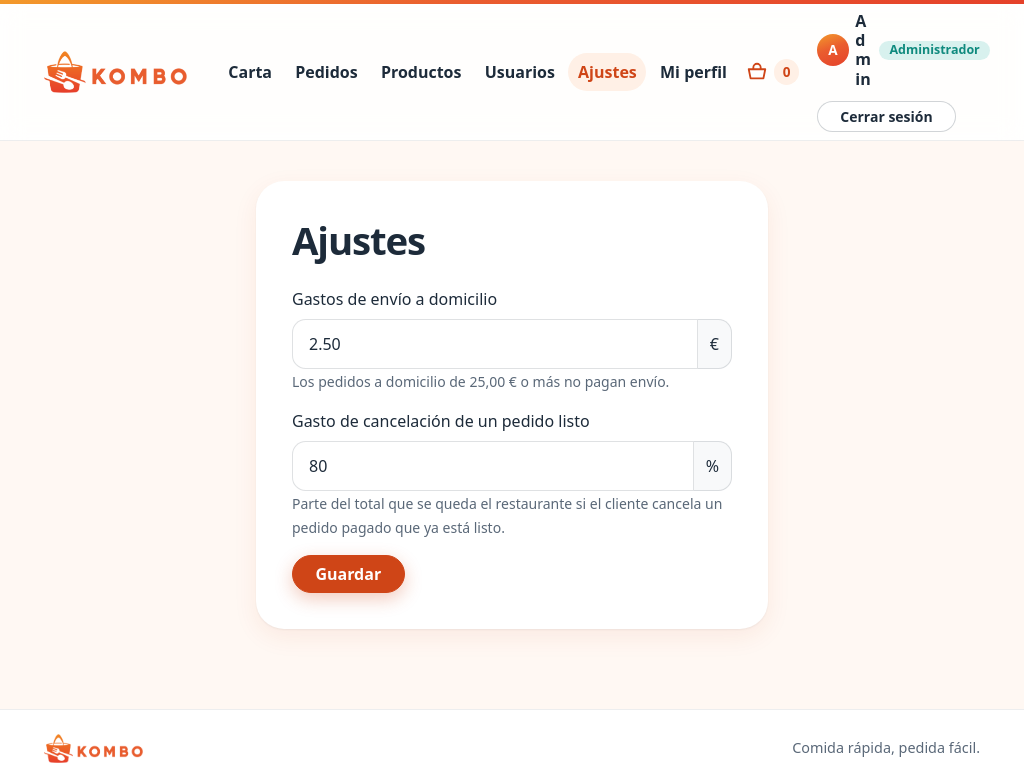
AdminSettingsPage › shows an error when the cost cannot be saved or loaded
Click the button "Guardar" at x=348, y=574, box 292,555 -> 404,593
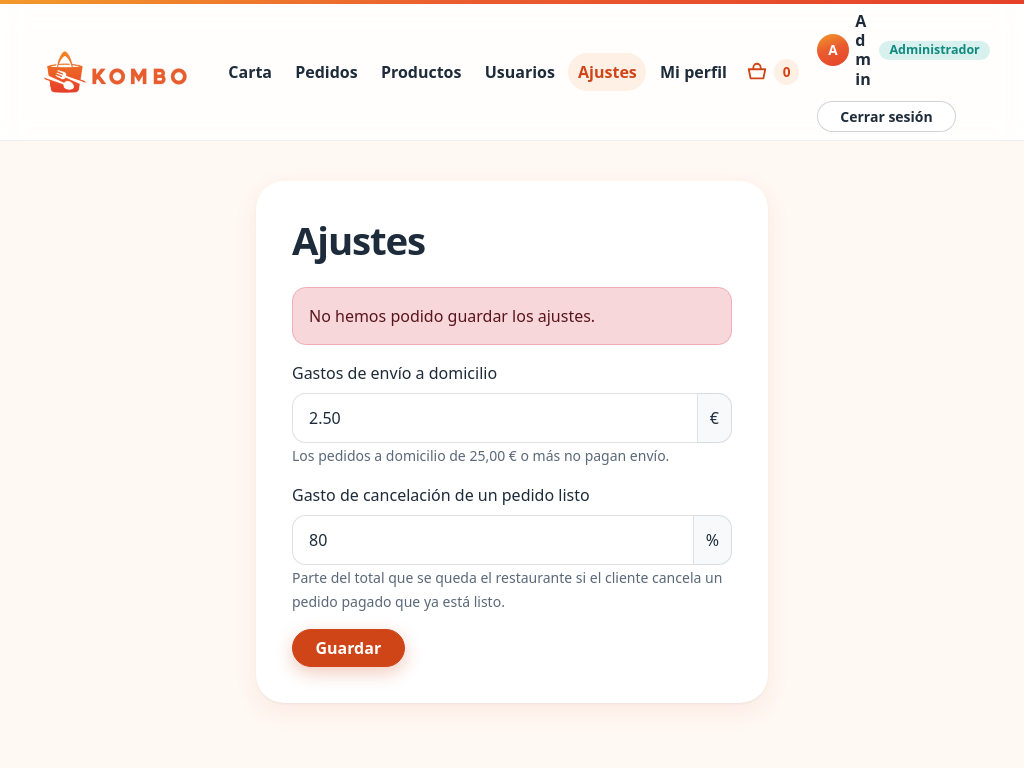
Check: the text "No hemos podido guardar los ajustes." is shown, box 292,287 -> 732,345
